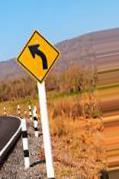left: (16, 29, 59, 84)
